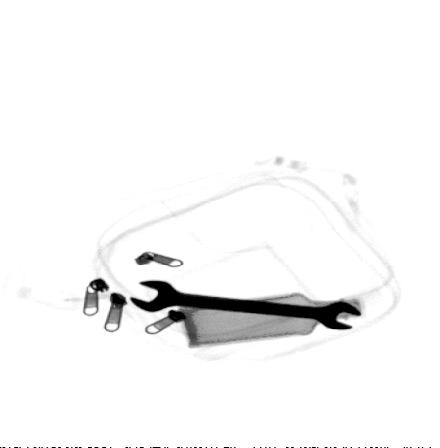Wrench: (129, 280, 363, 331)
